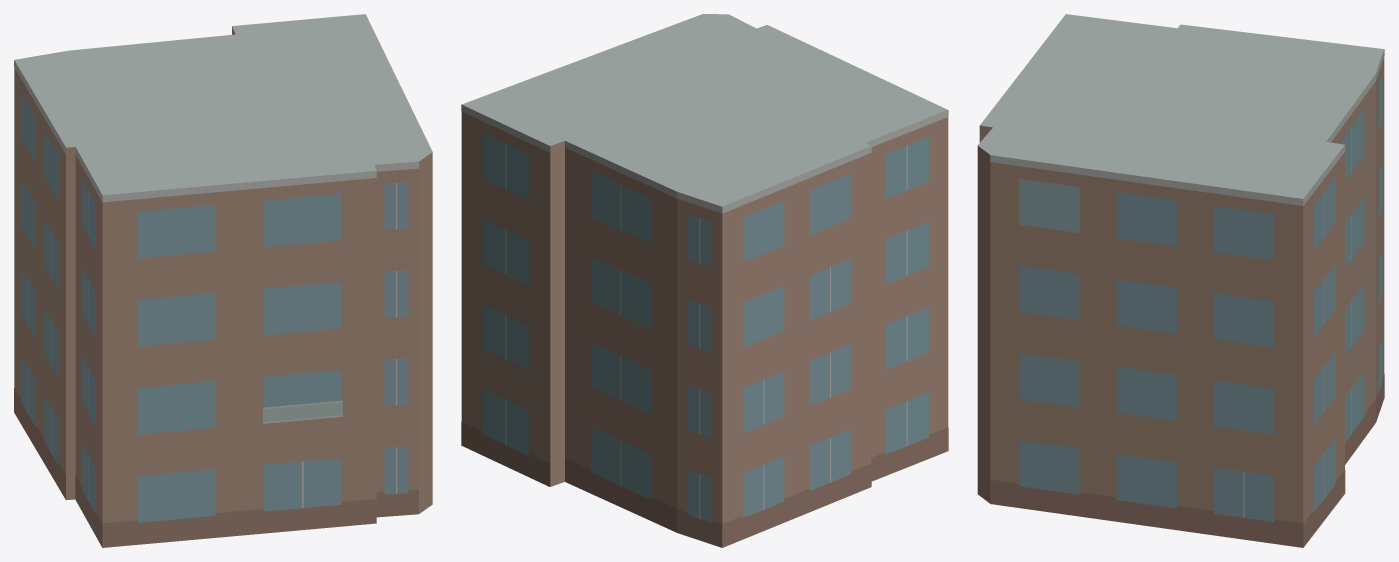
The model's file is survey-upis-32470956.glb.
3 views of the same model, side by side, from view 1: azimuth 30°, elevation 25°; view 2: azimuth 150°, elevation 25°; view 3: azimuth 270°, elevation 25° (orthographic). The views are drawn at different scales.
Visible parts, largest first — view 1: survey-upis-32470956.tmp; view 2: survey-upis-32470956.tmp; view 3: survey-upis-32470956.tmp.
Boxes of the visible parts, left/top/right/bottom form: survey-upis-32470956.tmp: left=14, top=14, right=432, bottom=547; survey-upis-32470956.tmp: left=461, top=14, right=948, bottom=547; survey-upis-32470956.tmp: left=977, top=14, right=1384, bottom=547.
Size of the model in its own units: 13.89 by 12.2 by 12.91.
